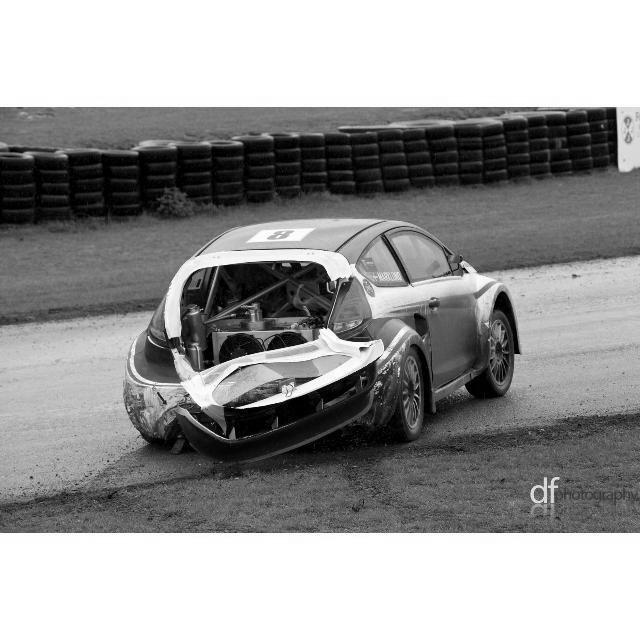Rear-windscreen-Damage: (171, 240, 339, 333)
rear-bumper-dent: (147, 366, 401, 442)
